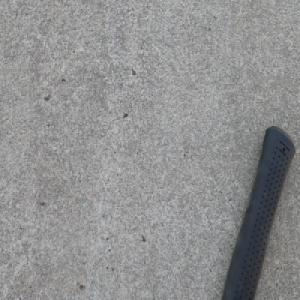Hammer: (218, 122, 296, 300)
